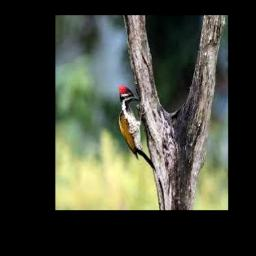Woodpecker: (119, 86, 156, 170)
